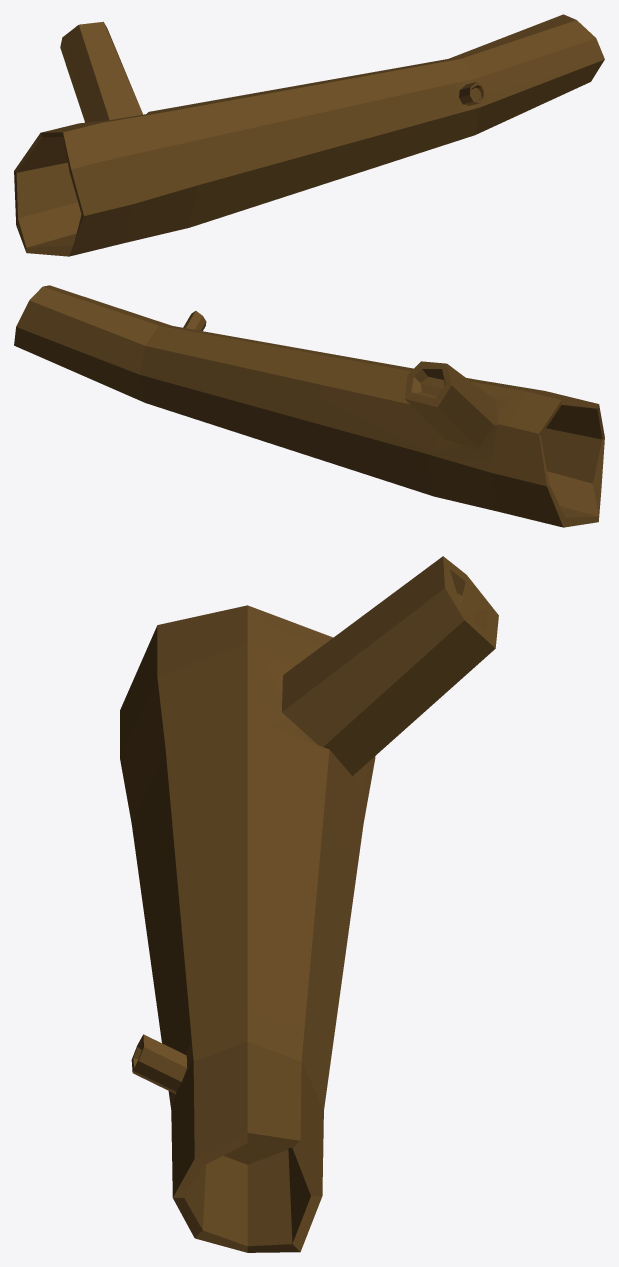
Rendered from asset_deadtrunks_02.fbx.
3 views of the same model, one above another, from view 1: azimuth 30°, elevation 25°; view 2: azimuth 150°, elevation 25°; view 3: azimuth 270°, elevation 25° (orthographic). The views are drawn at different scales.
Parts seen in each view (by area): view 1: Dead_Trunc02; view 2: Dead_Trunc02; view 3: Dead_Trunc02.
Boxes of the visible parts, <box> form: Dead_Trunc02: <box>14,14,604,256</box>; Dead_Trunc02: <box>14,285,604,527</box>; Dead_Trunc02: <box>120,556,498,1252</box>.
Bounding box in the file's own units: 539 × 155 × 157.
